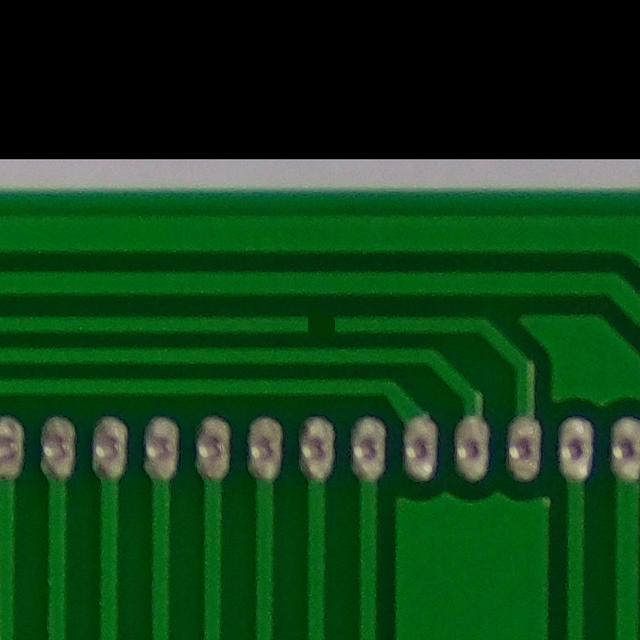open_circuit: (289, 297, 351, 342)
